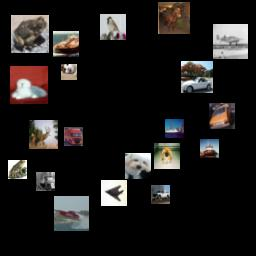airplane: (213, 24, 248, 59), (101, 180, 127, 206)
automobile: (181, 61, 213, 93), (209, 103, 235, 129)
bird: (100, 14, 126, 40)
cat: (61, 64, 77, 80)
deer: (29, 120, 58, 149)
dog: (10, 66, 48, 104), (154, 143, 180, 169), (125, 153, 151, 179)
frog: (11, 15, 49, 53), (8, 160, 27, 179)
ship: (54, 196, 89, 231), (53, 31, 79, 57), (200, 139, 219, 158), (165, 119, 184, 138)
truck: (64, 127, 83, 146), (36, 172, 55, 191), (151, 185, 170, 204)
